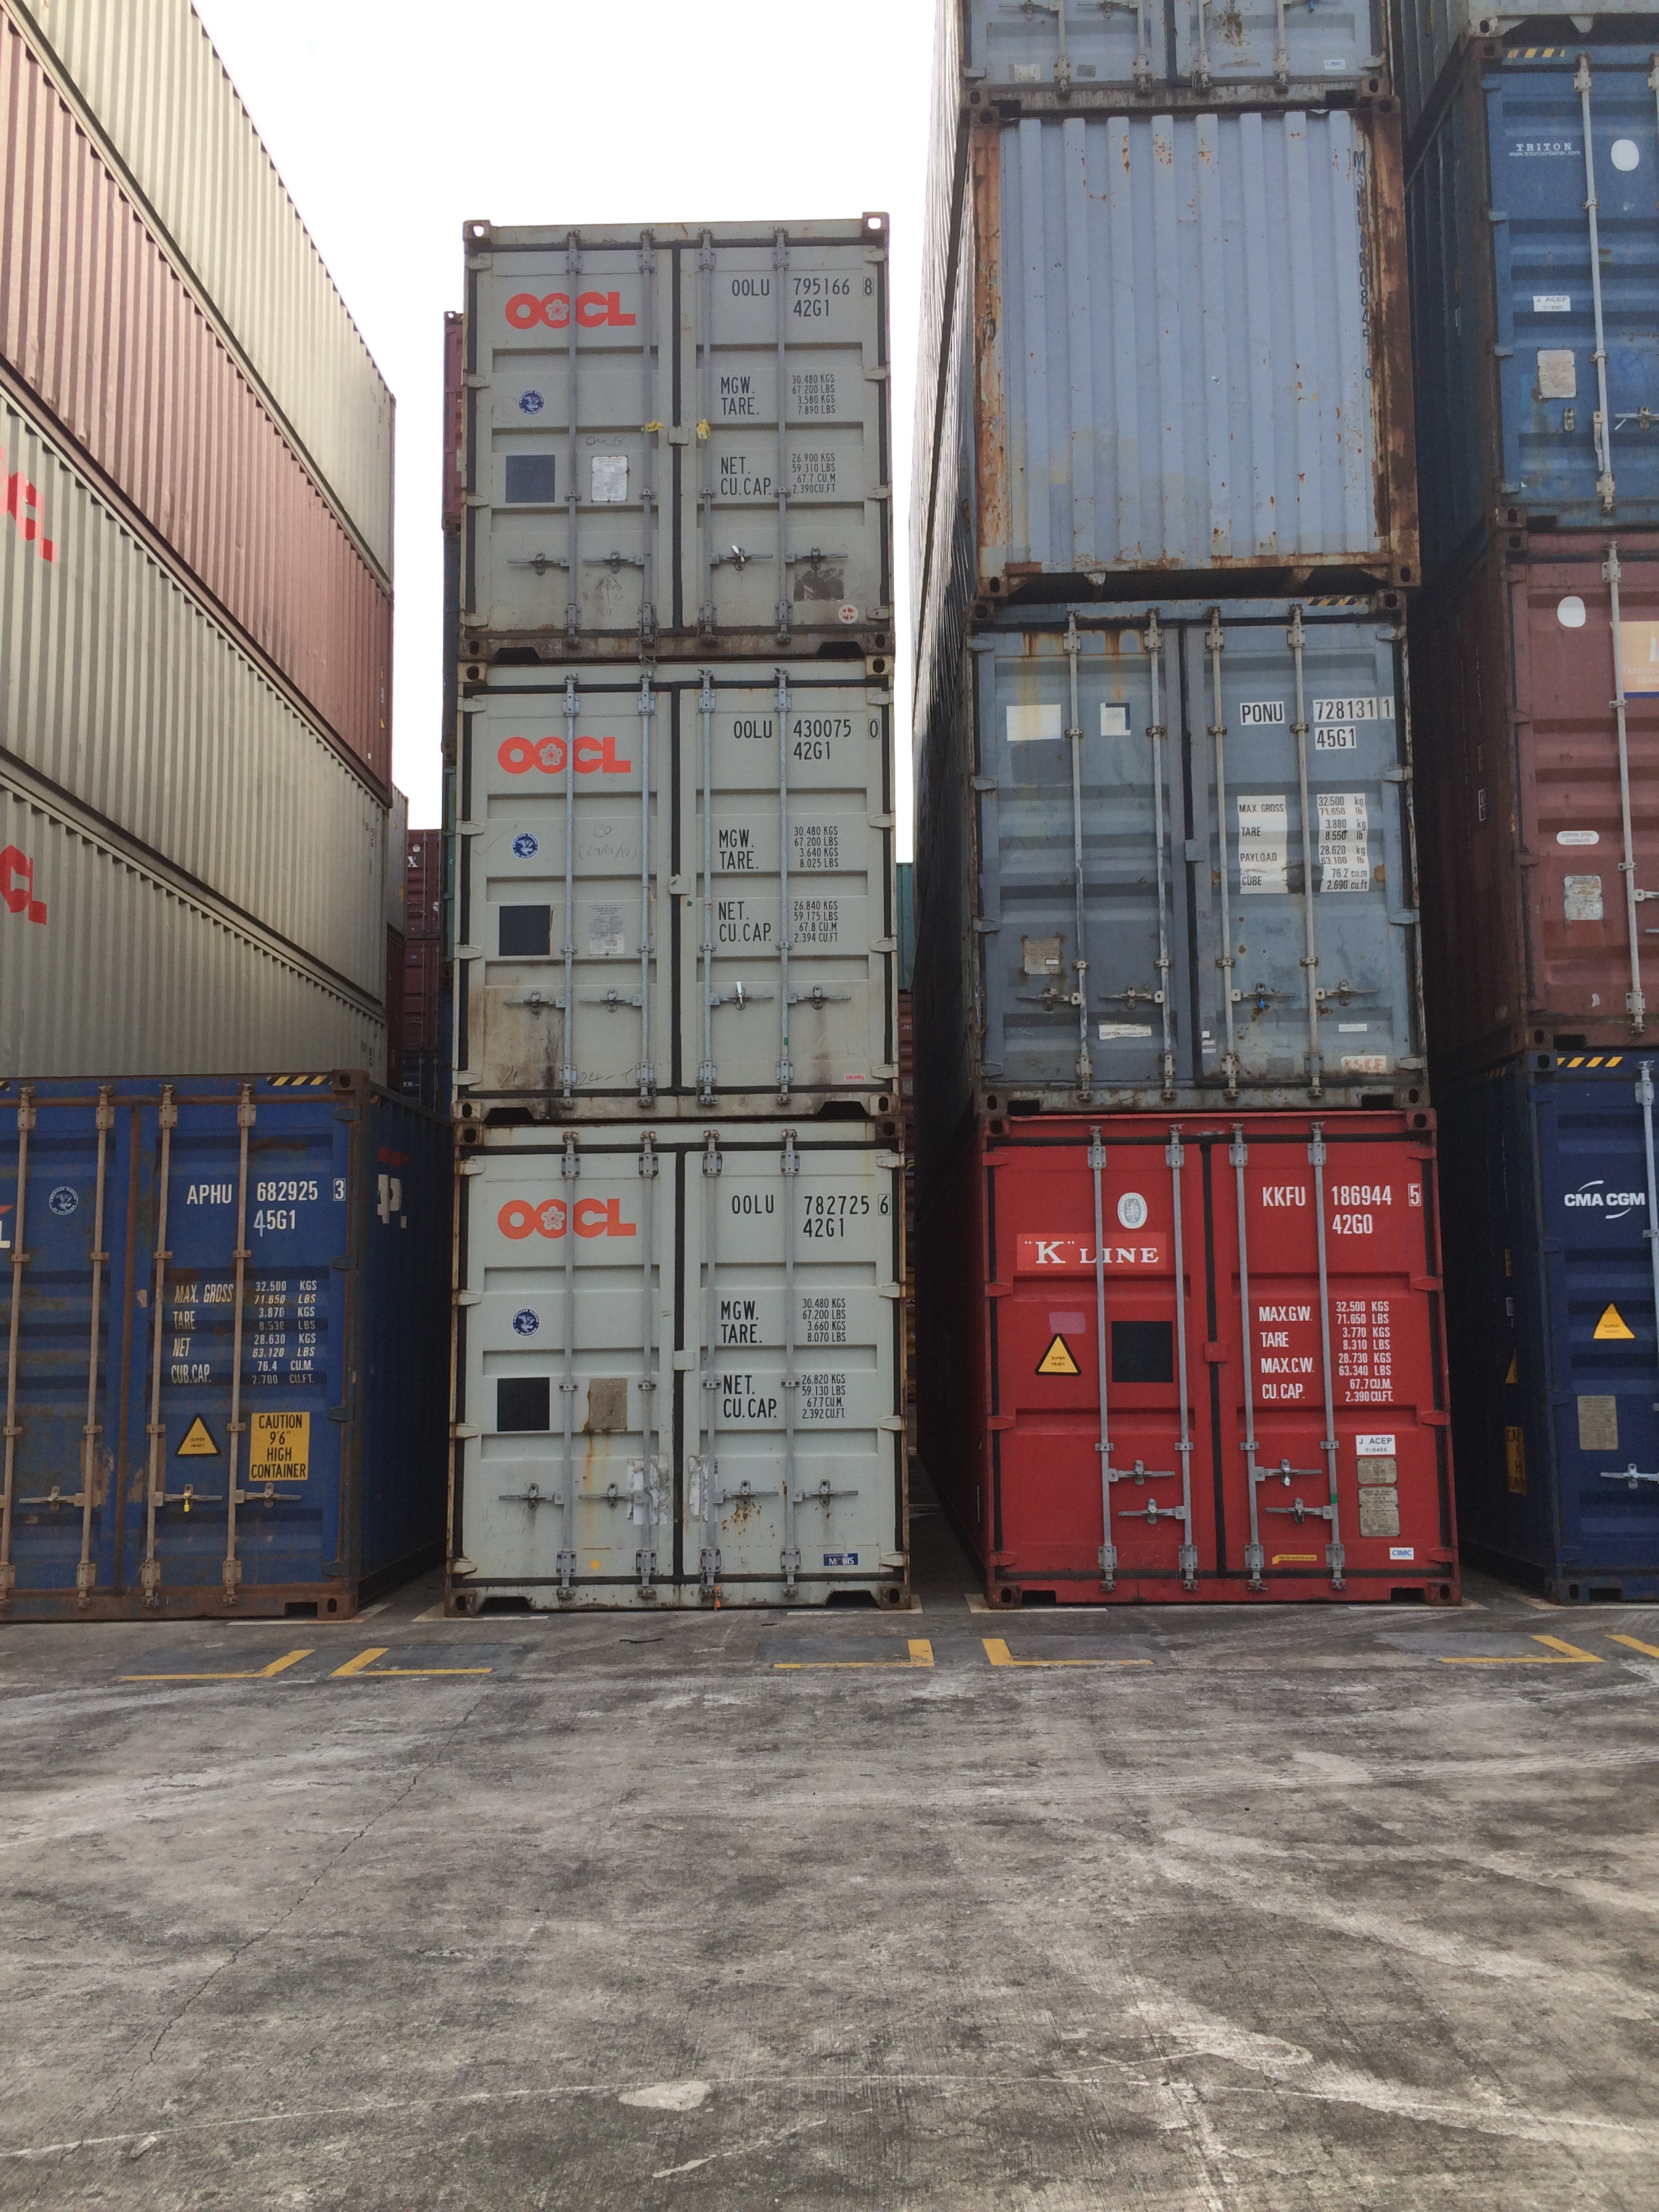container_door: (978, 599, 1424, 1097), (992, 1109, 1450, 1592), (465, 1151, 904, 1615), (467, 667, 904, 1129), (467, 221, 882, 662), (9, 1068, 343, 1609)
container_no_door: (979, 85, 1431, 590)
